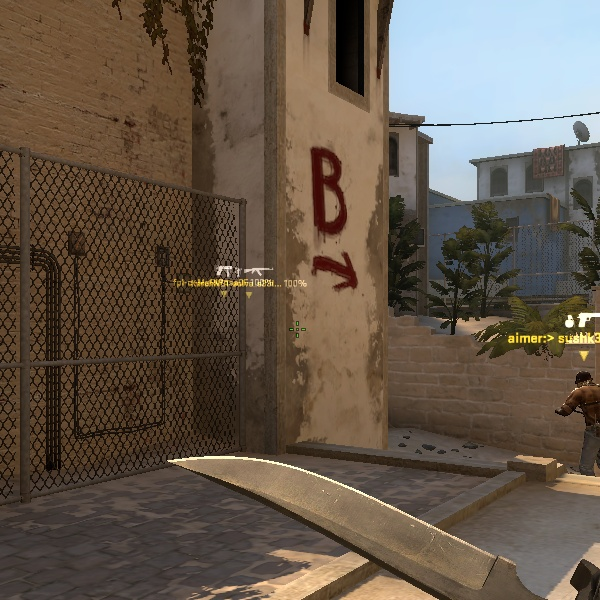t_body: (555, 364, 598, 479)
t_head: (570, 364, 596, 395)
